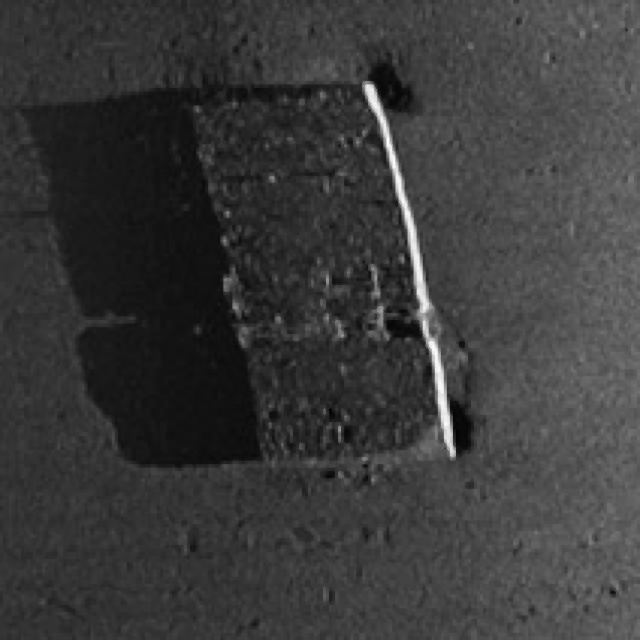Ship: (160, 64, 472, 492)
